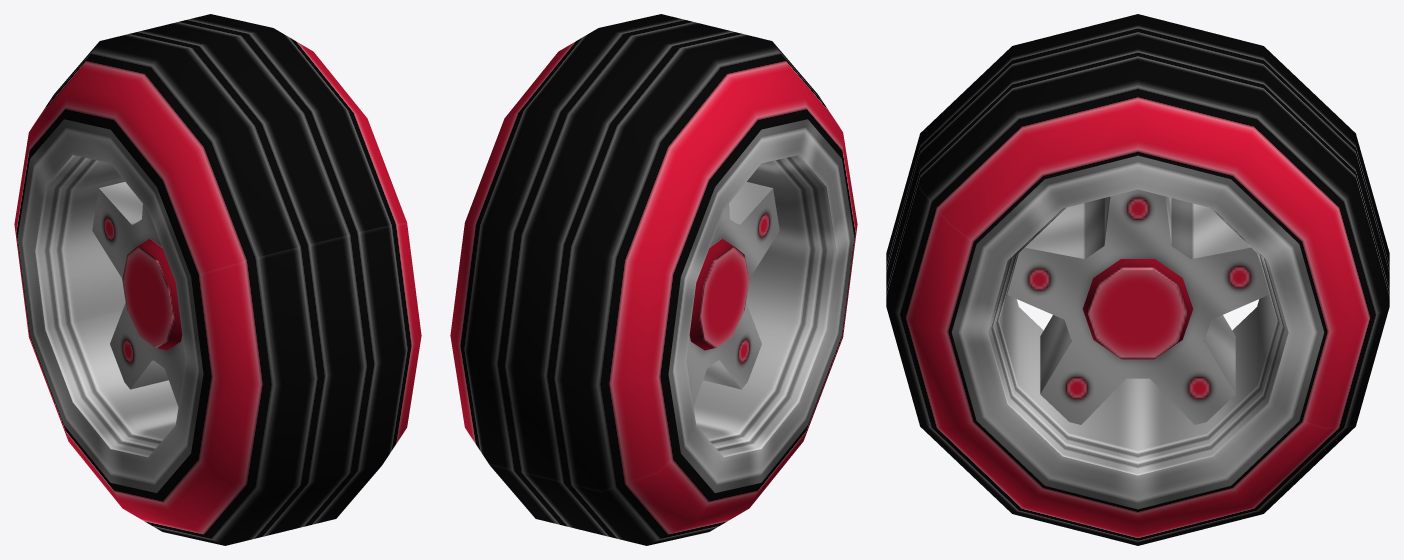
The model's file is wheel_racingcar_R.FBX.
3 renders of one model, left to right at view 1: azimuth 30°, elevation 25°; view 2: azimuth 150°, elevation 25°; view 3: azimuth 270°, elevation 25°, orthographic.
Parts seen in each view (by area): view 1: Object033; view 2: Object033; view 3: Object033.
Boxes of the visible parts, left/top/right/bottom form: Object033: left=14, top=14, right=421, bottom=545; Object033: left=450, top=14, right=857, bottom=545; Object033: left=886, top=14, right=1389, bottom=545.
Size of the model in its own units: 0.0636 by 0.1349 by 0.1287.
